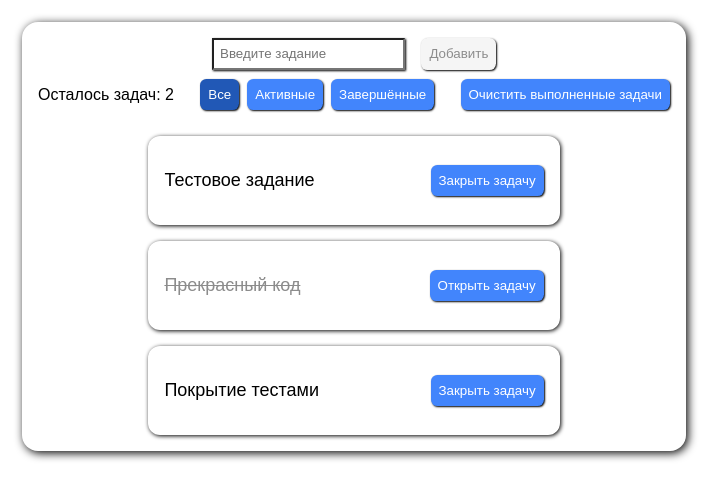
Scenario: Tasks test › Testing filtering by a completed
expect the text "Тестовое задание" is shown: met, box [164,170,315,191]
expect the text "Покрытие тестами" is shown: met, box [164,380,319,401]
Click the button "Завершённые" at (383, 95), box [331,79,434,110]
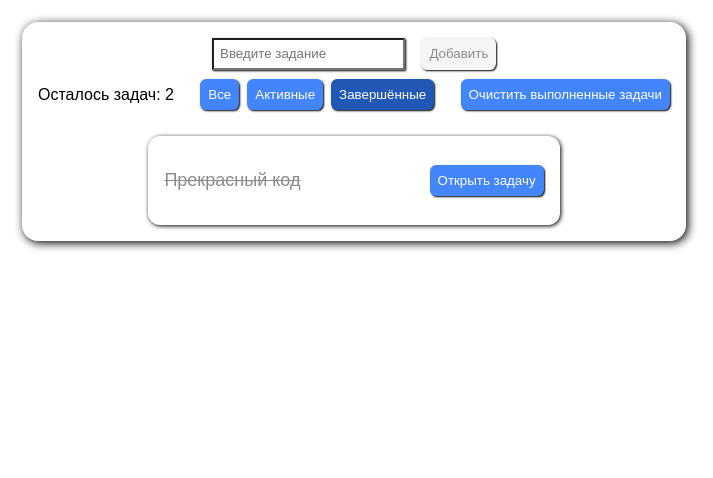
expect the text "Тестовое задание" is gone: met
expect the text "Покрытие тестами" is gone: met
